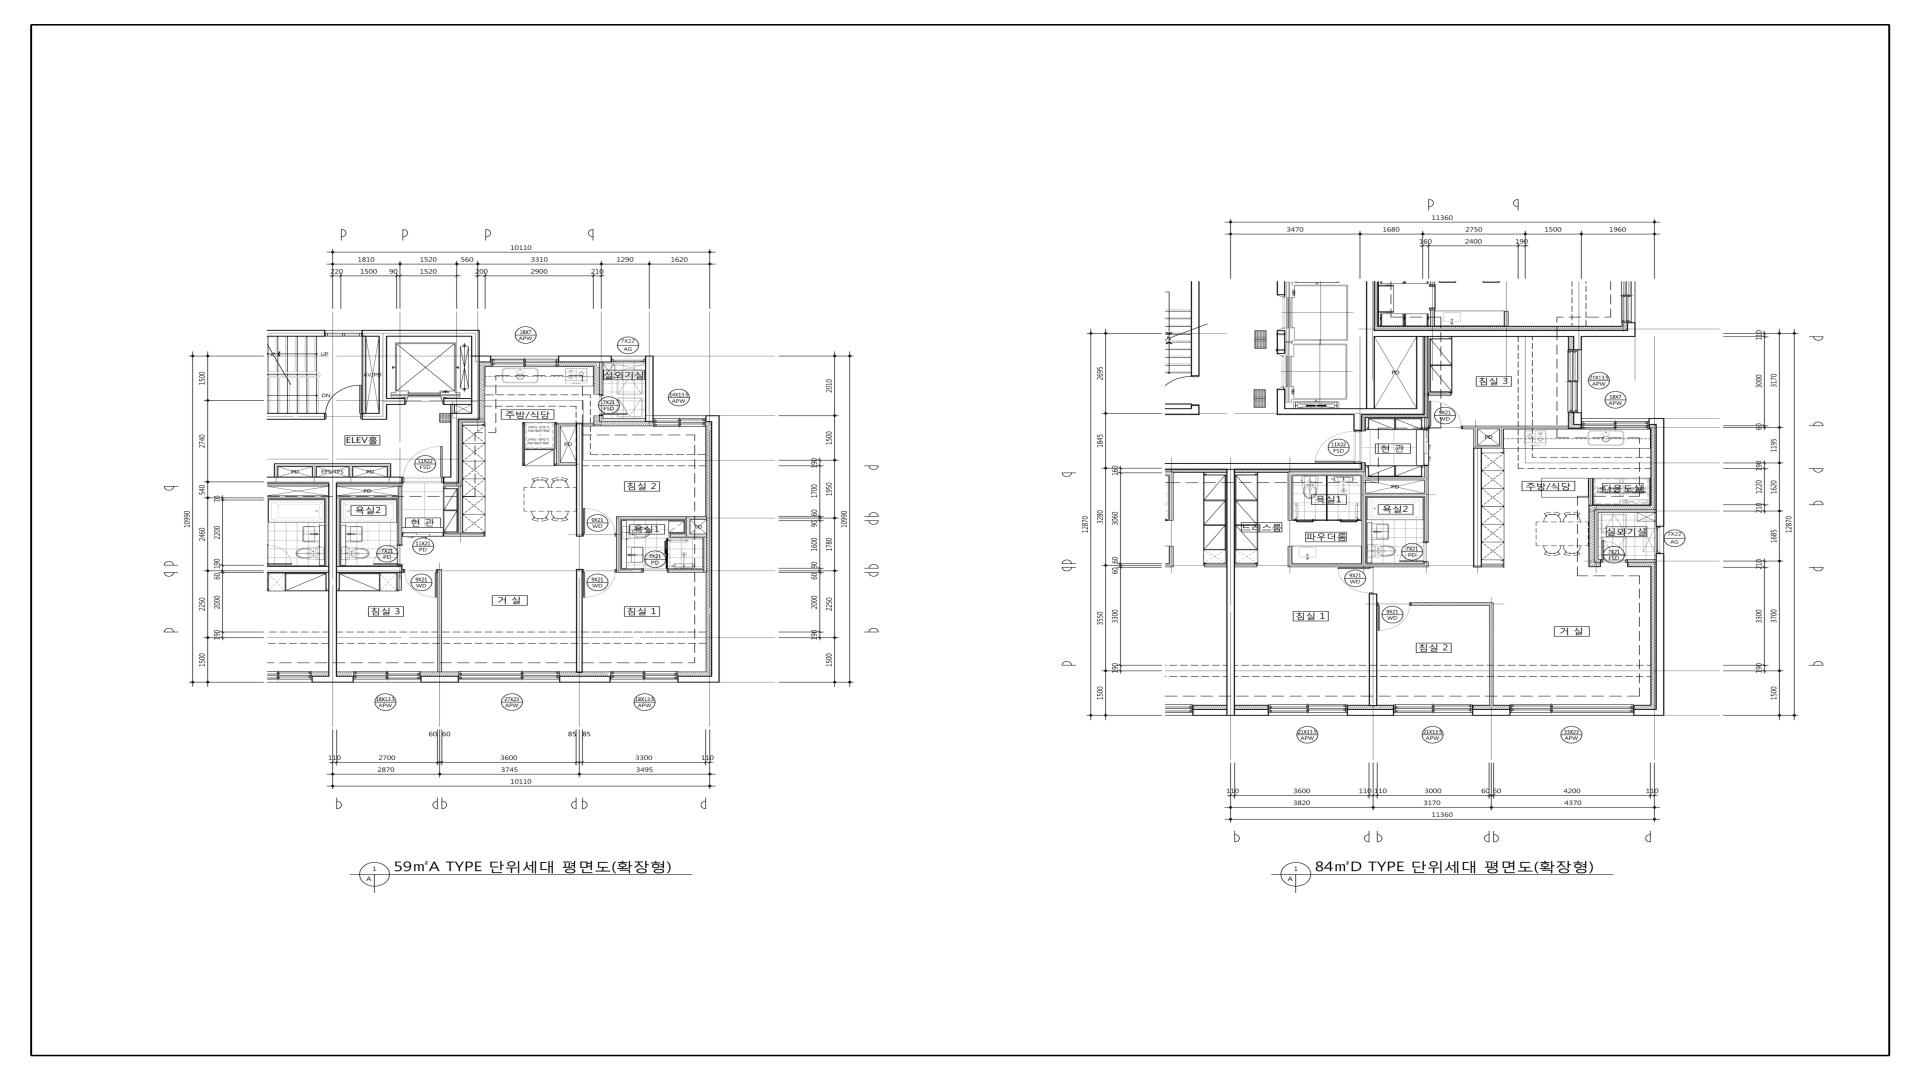door: (403, 446, 443, 484), (1315, 431, 1362, 463), (325, 385, 362, 420), (1164, 376, 1199, 405), (1377, 602, 1411, 631), (1337, 567, 1373, 594), (583, 508, 616, 537), (404, 569, 437, 598), (1428, 401, 1462, 429), (583, 569, 616, 597), (642, 549, 669, 573), (1399, 541, 1429, 562), (373, 544, 402, 565), (1601, 540, 1627, 563), (599, 395, 627, 415), (1293, 503, 1314, 522), (1340, 503, 1361, 522), (1424, 430, 1429, 465), (402, 533, 443, 537)
wall: (706, 416, 720, 676), (1226, 470, 1235, 716), (329, 483, 337, 682), (1366, 330, 1582, 337), (1165, 463, 1362, 470), (1656, 553, 1664, 716), (1473, 448, 1482, 567), (443, 420, 459, 484), (1285, 408, 1425, 415), (1369, 594, 1377, 706), (1191, 281, 1200, 376), (361, 330, 480, 337), (267, 477, 403, 483), (1656, 425, 1664, 527), (576, 423, 583, 537), (471, 337, 480, 420), (576, 569, 583, 673), (1288, 562, 1429, 567), (379, 337, 387, 420), (1416, 337, 1425, 408), (1366, 337, 1375, 408), (645, 356, 654, 422), (437, 569, 442, 672), (1489, 606, 1494, 706), (274, 463, 391, 467), (337, 566, 402, 573), (1361, 476, 1366, 564), (267, 330, 325, 337), (267, 413, 325, 420), (1424, 465, 1429, 541), (559, 676, 611, 683), (1594, 513, 1601, 563), (1165, 405, 1199, 415), (1347, 709, 1394, 716), (1411, 602, 1493, 606), (558, 356, 612, 362), (1462, 426, 1569, 429), (1288, 472, 1366, 476), (362, 337, 366, 413), (678, 676, 720, 683), (616, 516, 686, 520), (420, 676, 459, 683), (336, 499, 340, 566), (1472, 709, 1510, 716), (1594, 509, 1656, 513), (1235, 709, 1269, 716), (458, 486, 463, 533), (1366, 493, 1424, 497), (398, 486, 402, 544), (1288, 476, 1293, 521), (1277, 389, 1285, 415), (443, 398, 471, 405), (616, 520, 620, 569), (1277, 330, 1285, 354), (336, 496, 398, 499), (1366, 477, 1424, 480), (603, 418, 645, 422), (1633, 709, 1656, 716), (556, 426, 560, 466), (450, 413, 471, 420), (1353, 415, 1362, 431), (703, 537, 707, 573), (668, 569, 704, 573), (1588, 478, 1593, 506), (599, 362, 603, 395), (387, 398, 405, 405), (443, 533, 485, 536), (362, 413, 379, 420), (1573, 337, 1582, 350), (1573, 412, 1582, 425), (1627, 559, 1656, 563), (1277, 281, 1285, 295), (1649, 418, 1664, 425), (616, 569, 642, 573), (337, 676, 353, 682), (1428, 392, 1451, 396), (1326, 476, 1328, 520), (397, 573, 402, 590), (686, 516, 707, 520), (1499, 429, 1504, 445), (1478, 445, 1504, 448), (480, 355, 491, 362), (1474, 429, 1478, 448), (1288, 546, 1292, 564), (686, 520, 690, 537), (1235, 564, 1257, 567), (1424, 417, 1429, 430), (560, 462, 576, 466), (1482, 564, 1503, 567), (556, 423, 576, 426), (690, 534, 707, 537), (312, 467, 317, 477), (670, 534, 686, 537), (349, 467, 353, 477), (387, 467, 391, 477), (450, 405, 455, 413), (274, 467, 278, 477), (582, 423, 594, 426), (599, 415, 603, 422), (1314, 520, 1340, 521), (402, 569, 404, 573), (398, 565, 402, 566)
window: (1510, 704, 1633, 716), (459, 671, 559, 683), (1394, 704, 1472, 716), (1269, 704, 1347, 716), (1568, 350, 1582, 412), (353, 671, 421, 683), (611, 671, 678, 683), (491, 356, 558, 367), (1582, 418, 1649, 429), (653, 416, 706, 427), (325, 330, 361, 337), (1656, 527, 1664, 553), (612, 356, 645, 362)
